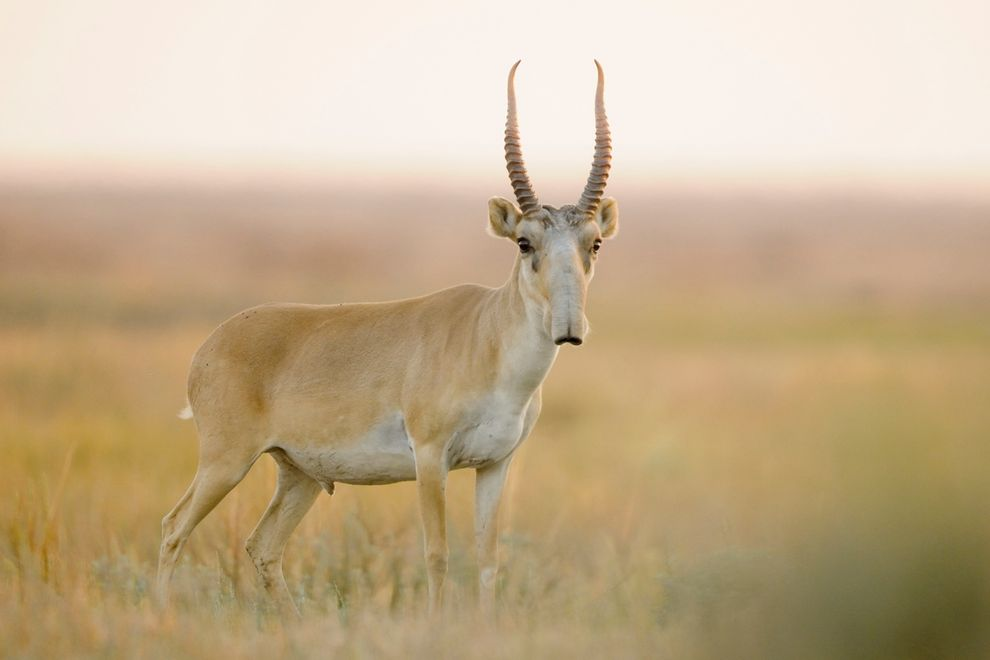saiga: (158, 58, 618, 606)
